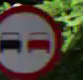No overtake: (0, 5, 65, 77)
